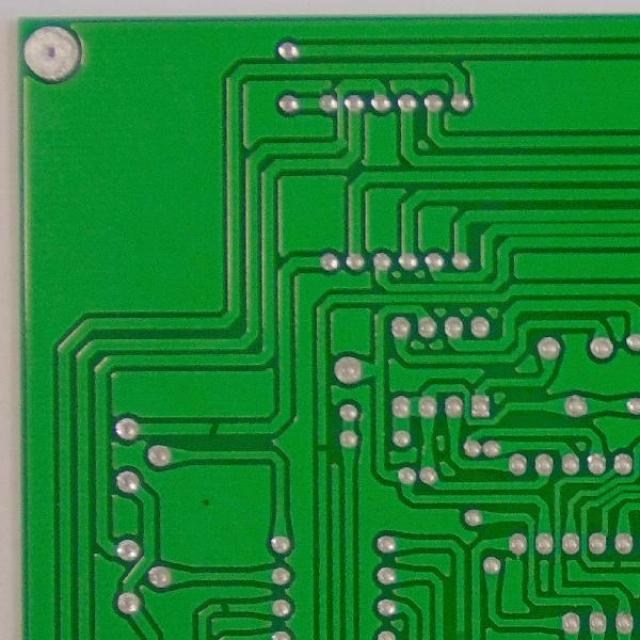Open_Circuit: (212, 600, 238, 618), (202, 418, 225, 438), (314, 436, 331, 462), (607, 556, 629, 574)
